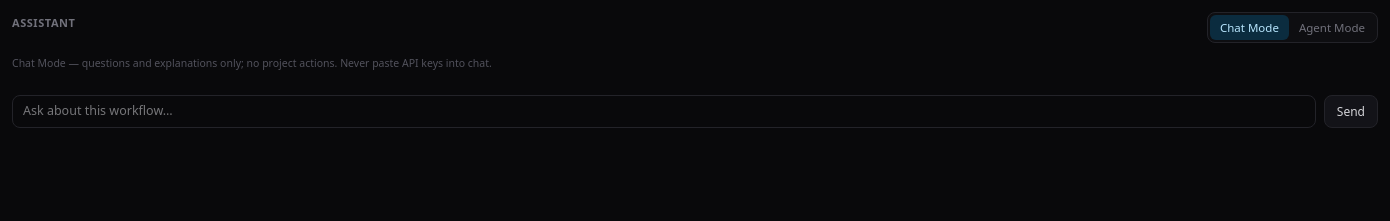
Test: AssistantPanel modes › Chat Mode answers cost questions from run data
Type "what did the last run cost?" into the field named "Assistant message" at (664, 112), box [12,95,1316,128]
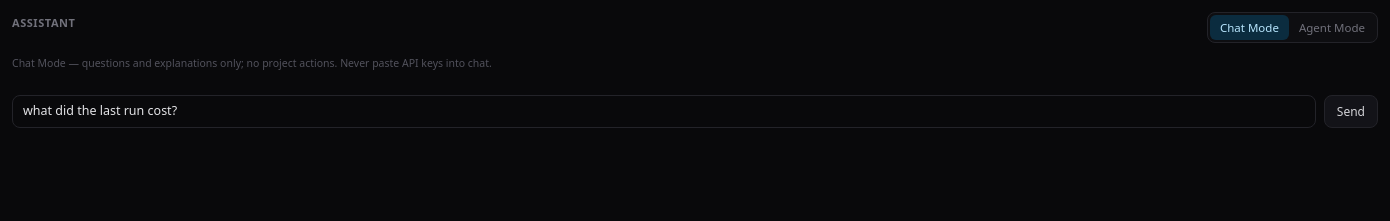
Click the button "Send" at (1351, 112), box [1324,95,1378,128]
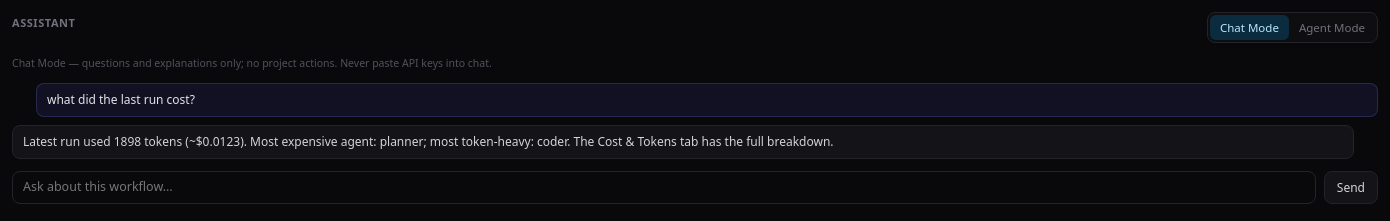
Expected: the text "Most expensive agent: planner" is shown, [23,133,834,150]
